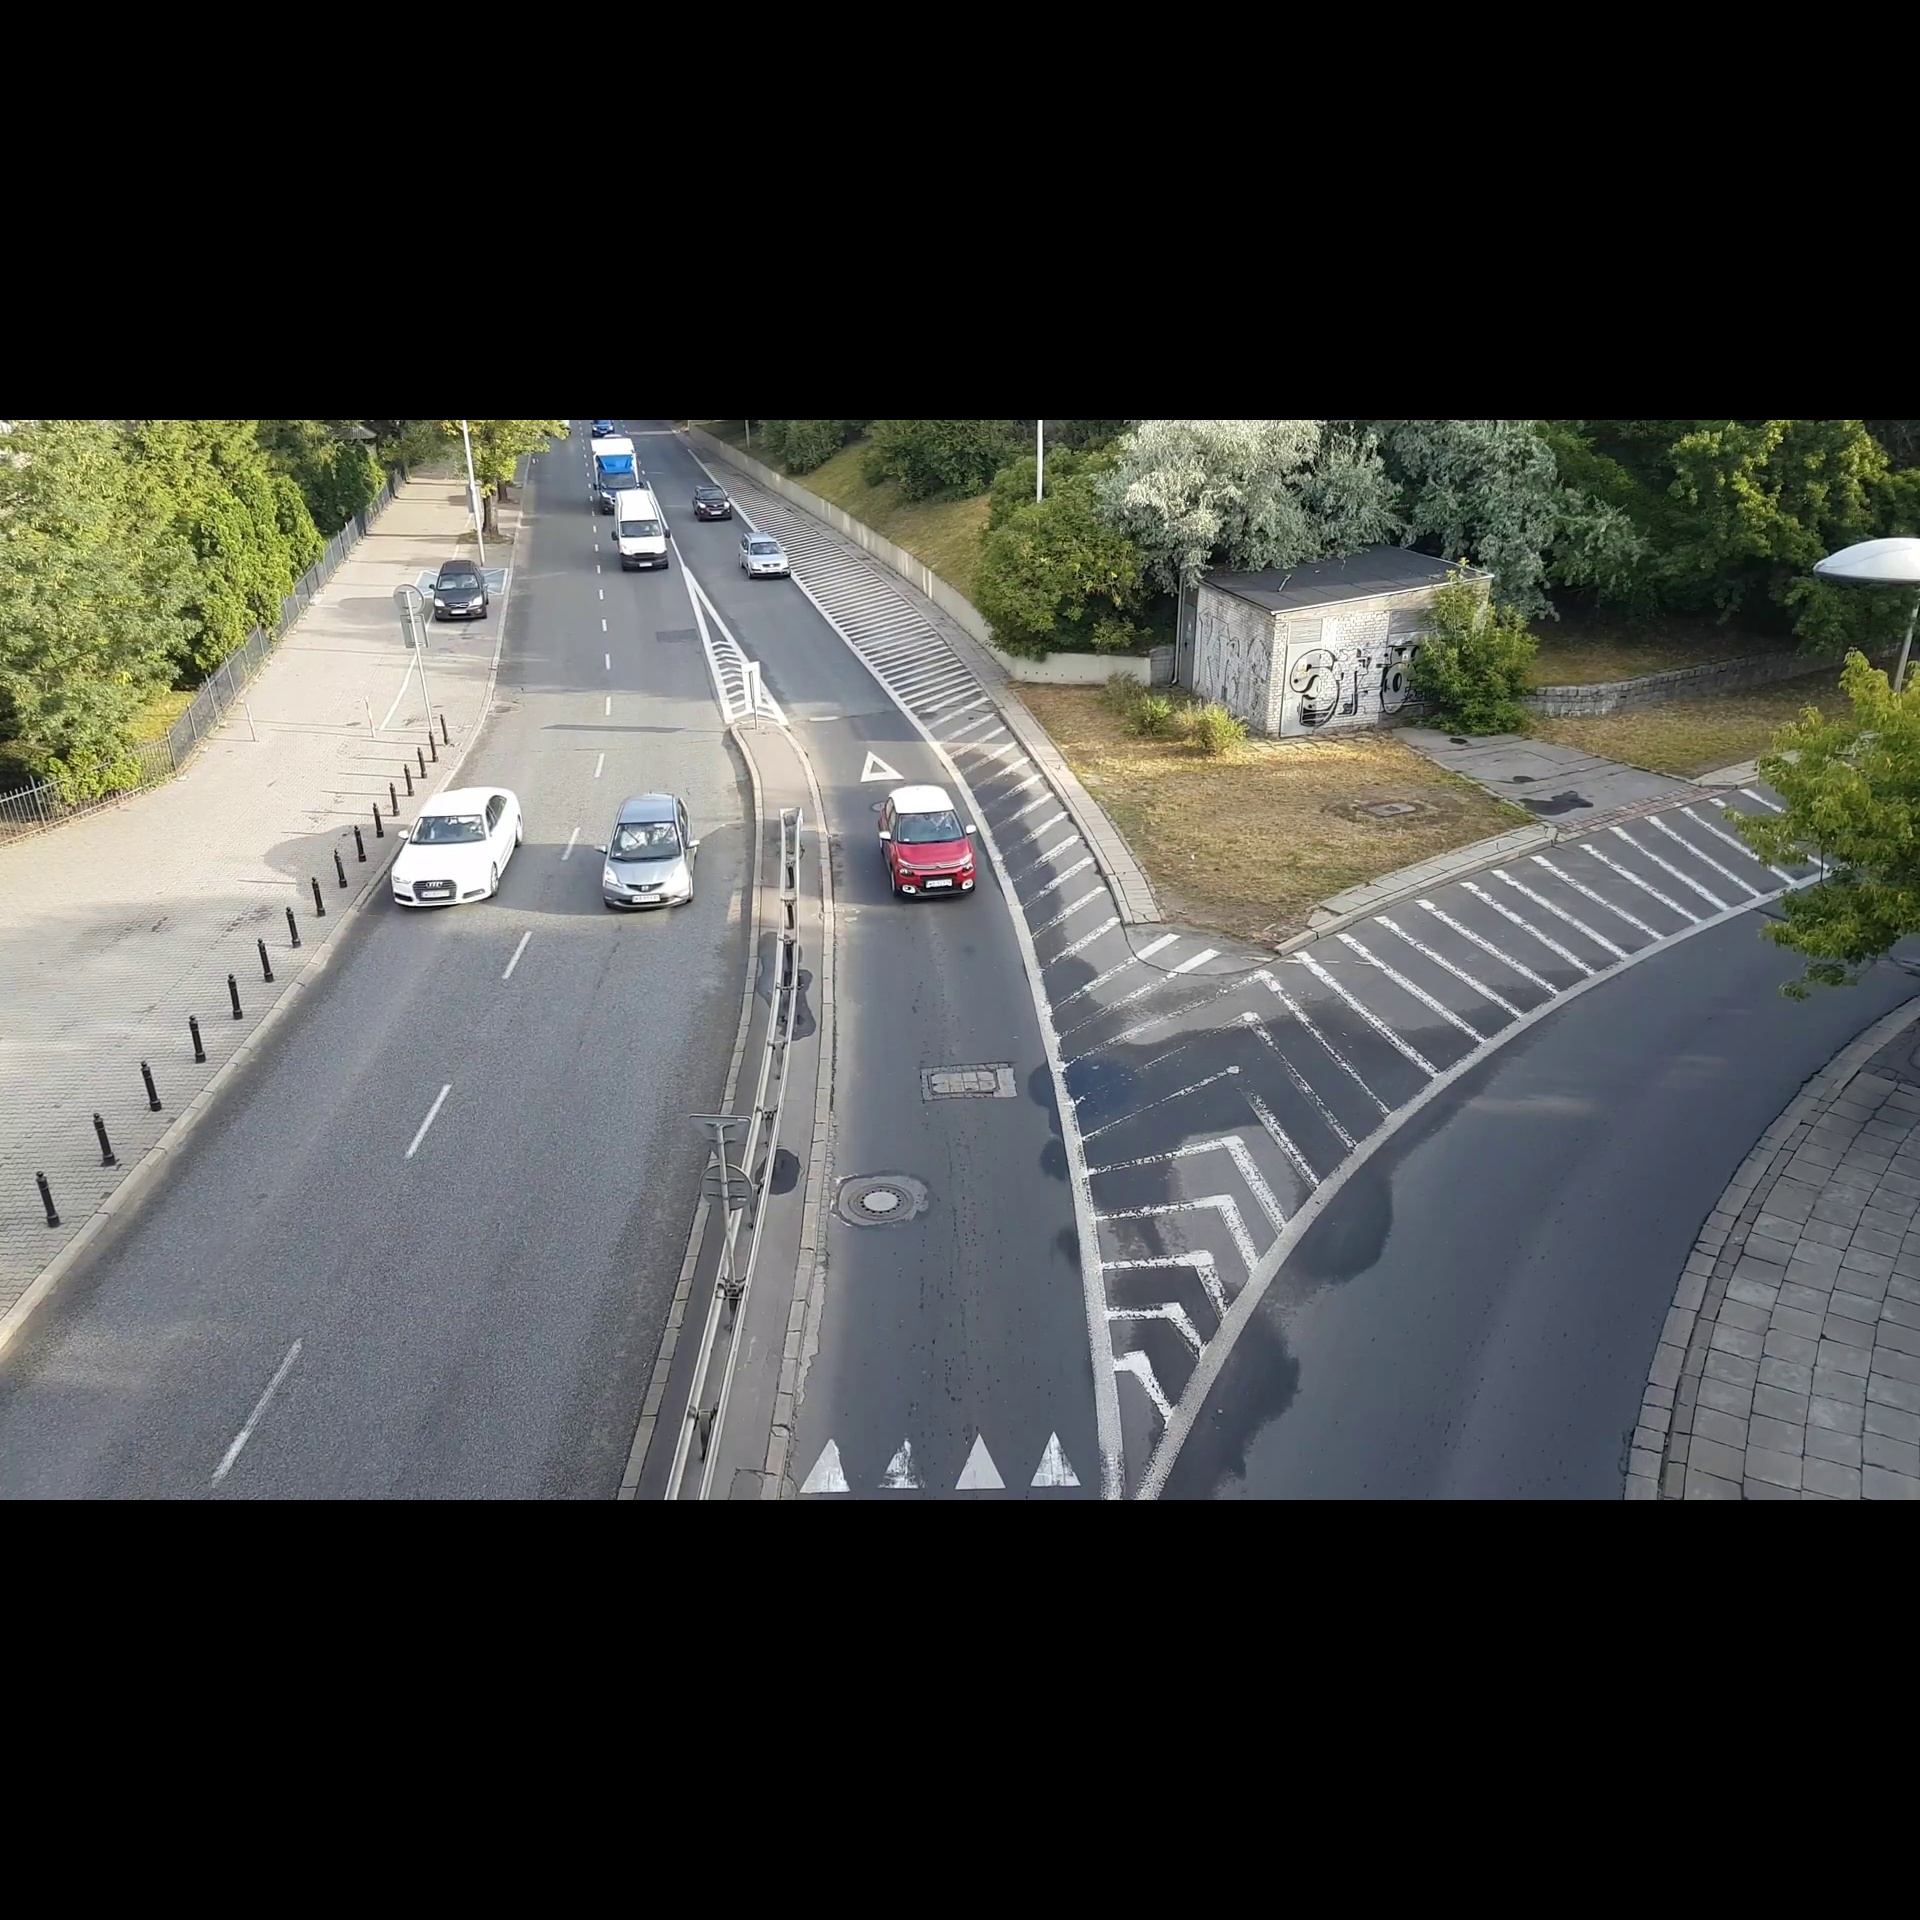vehicle: (387, 781, 527, 914), (596, 788, 700, 920), (872, 781, 978, 905), (612, 489, 673, 577), (427, 557, 492, 628), (737, 531, 793, 580), (591, 436, 640, 489), (689, 482, 735, 526), (591, 420, 617, 438)
